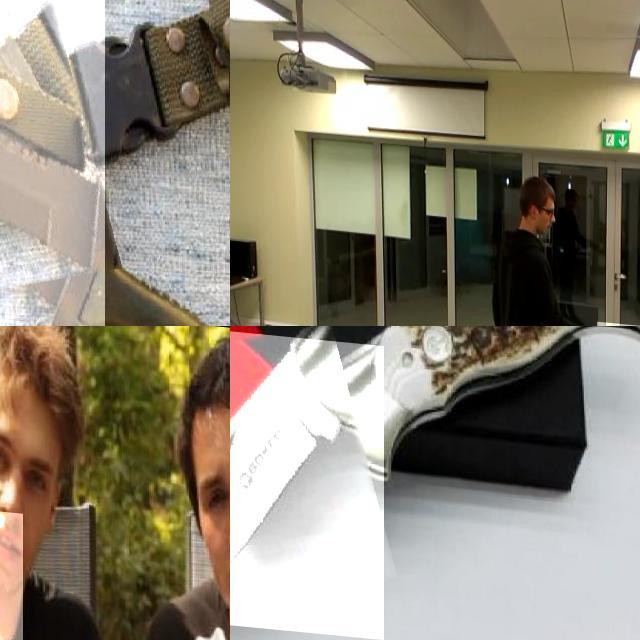-: (0, 0, 194, 326), (230, 326, 397, 633), (0, 502, 46, 640)
gun-knife-thesis - v11 Yolov5 augmented: (597, 312, 640, 326)
